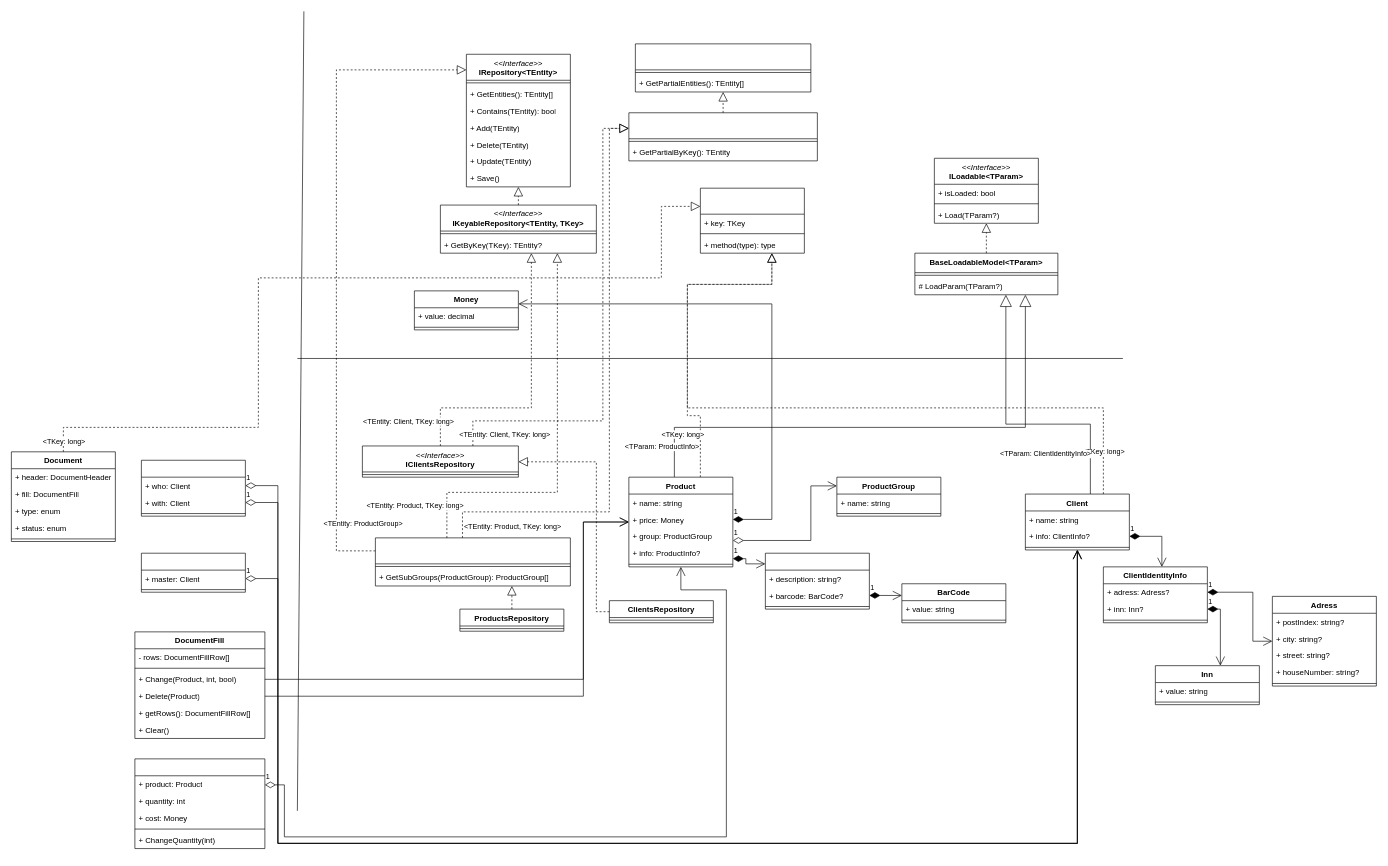
Some shapes in this 1388 by 866 pixel diagram are drawn without their labels. The box of each missing label's shape, as (x1, y1, x2, y2) in pixels:
<<Interface>> IKeyable<TKey>: (700, 188, 804, 253)
<<Interface>> IKeyablePartialLoadRepository<TEntity, TKey>: (628, 112, 817, 161)
<<Interface>> IPartialLoadRepository<TEntity>: (635, 43, 811, 92)
<<Interface>> IProductsRepository<TEntity, TKey>: (375, 537, 570, 586)
DocumentConfig: (141, 553, 245, 592)
DocumentFillRow: (134, 758, 265, 849)
DocumentHeader: (141, 460, 245, 516)
ProductInfo: (765, 553, 869, 609)
